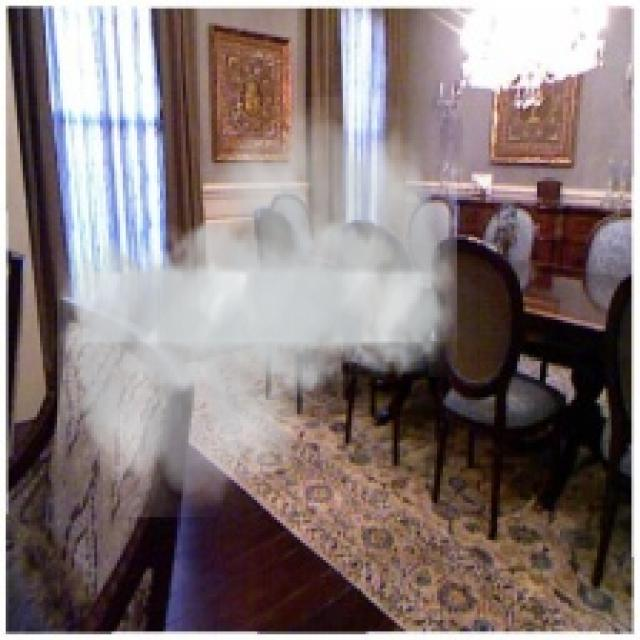smoke: (57, 97, 457, 517)
